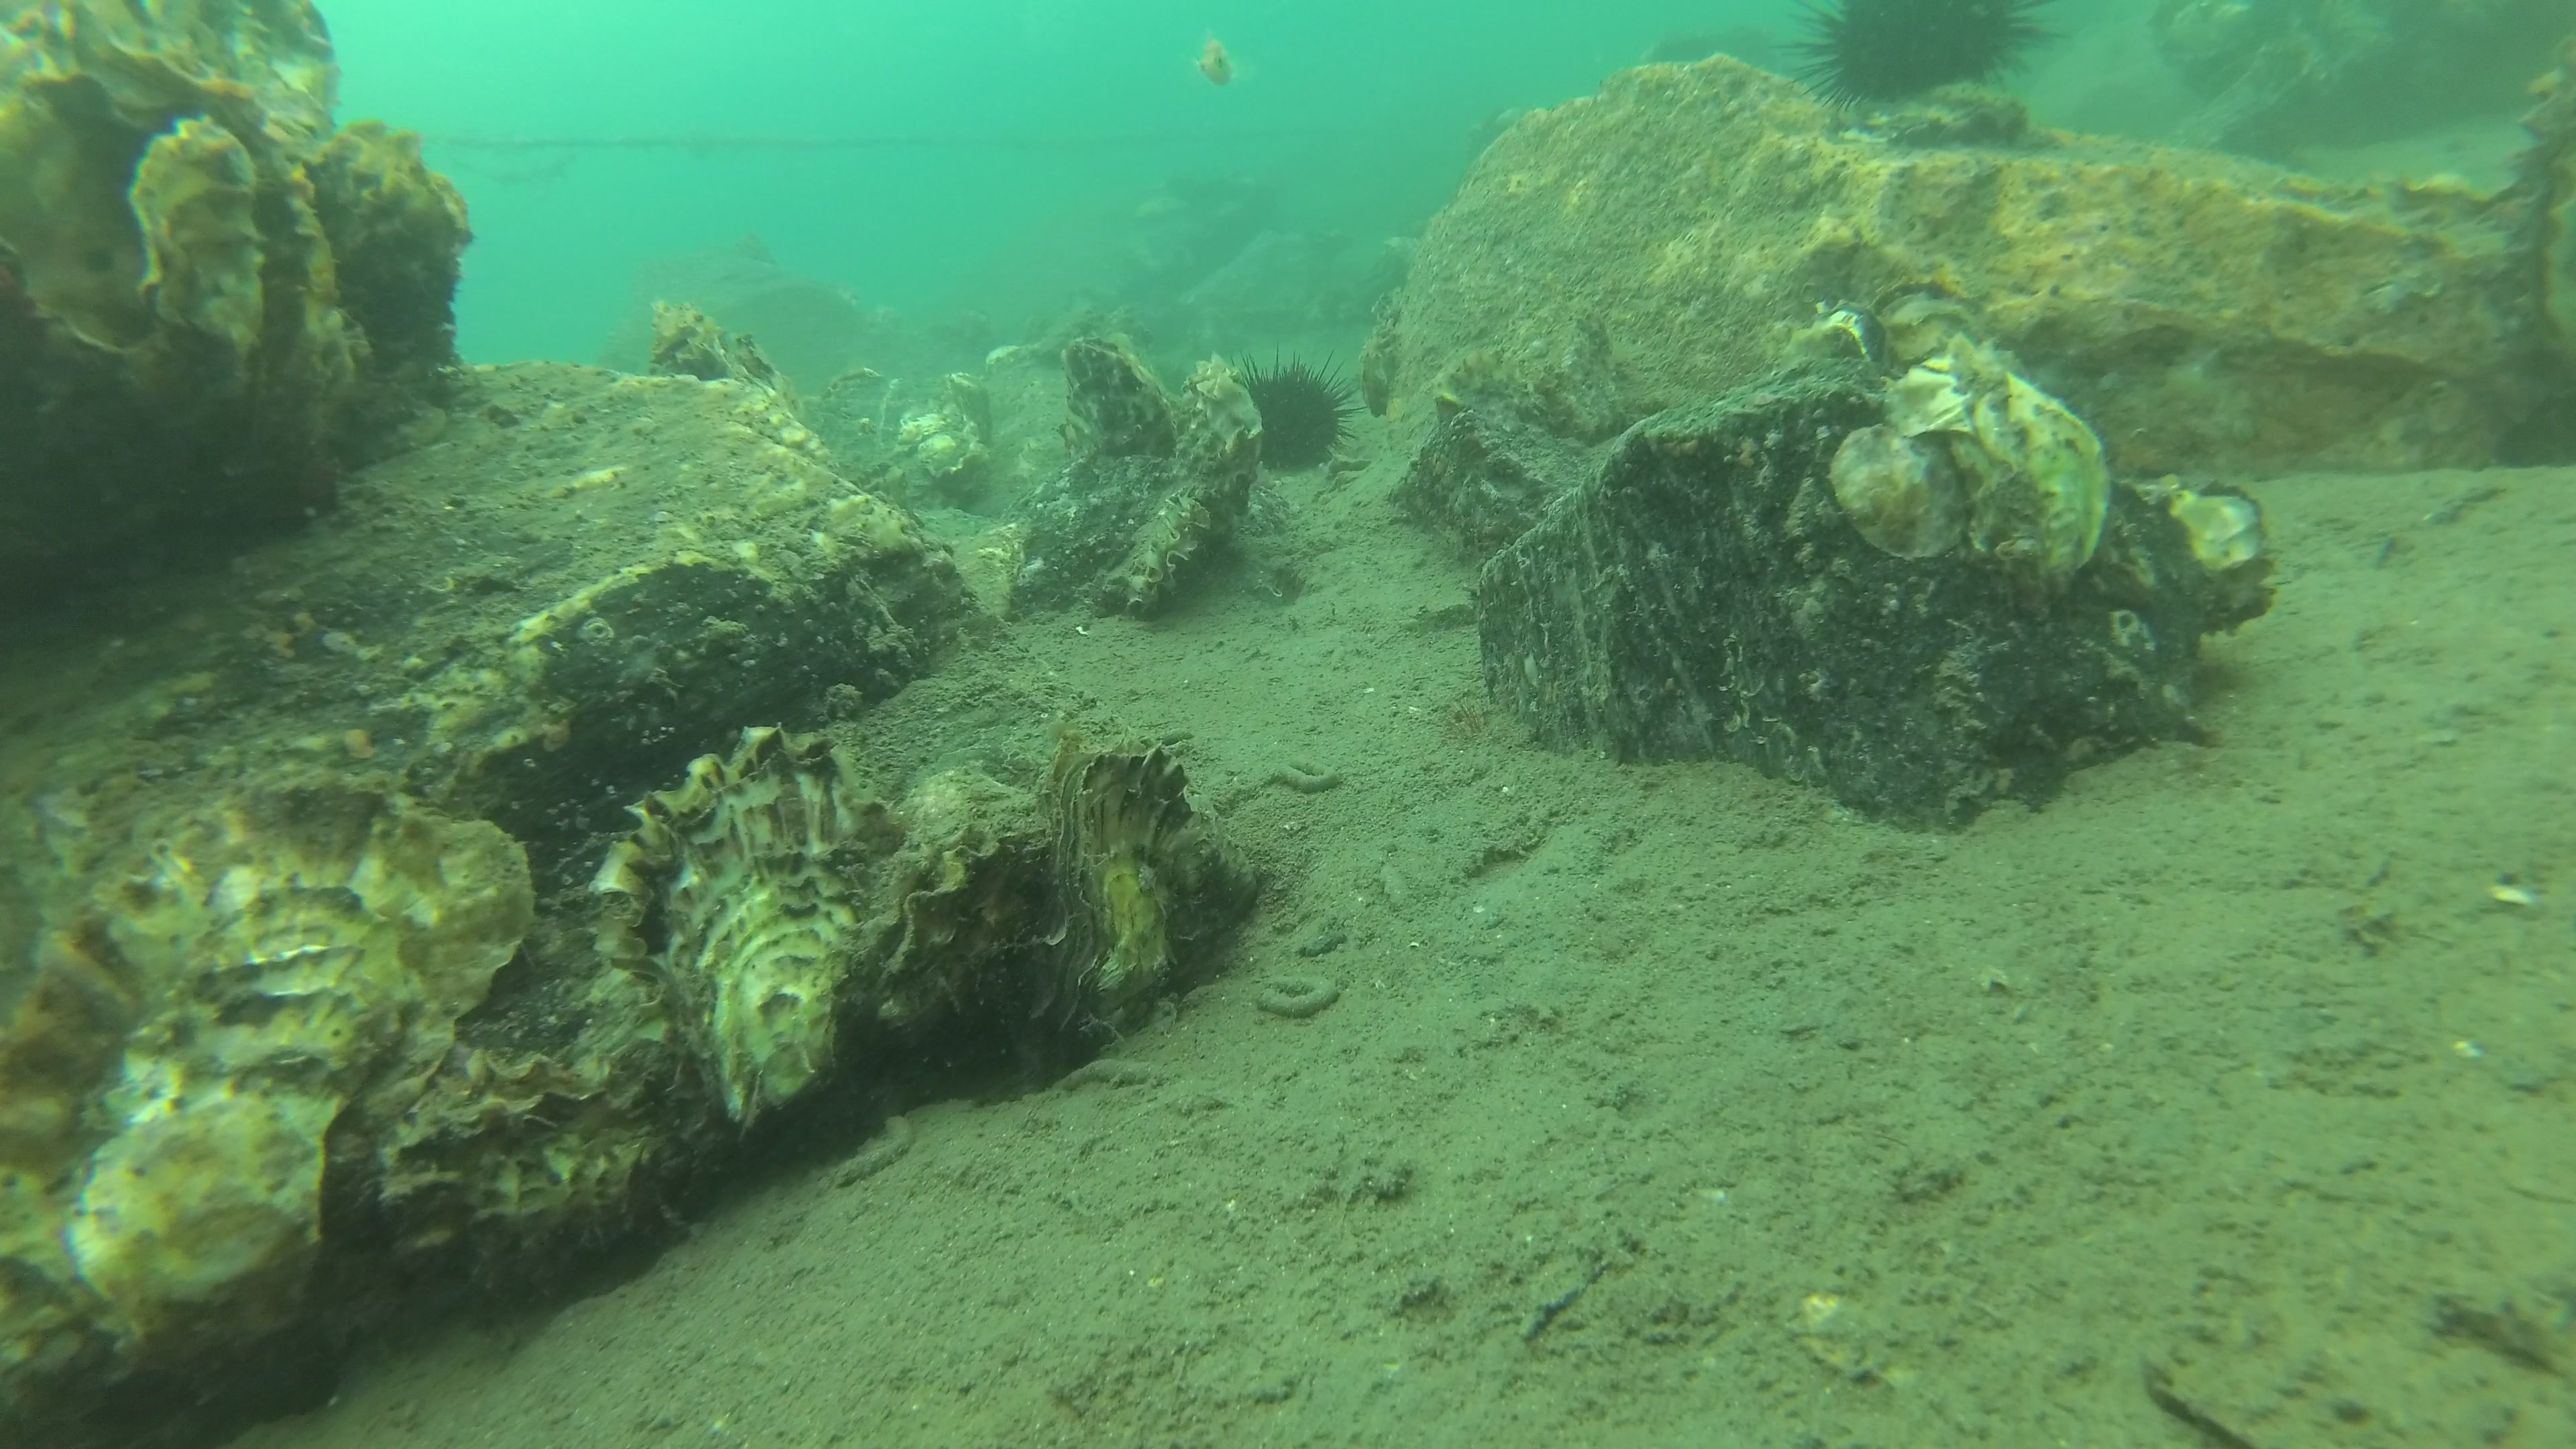echinus: (1767, 0, 2070, 119), (1226, 347, 1375, 474)
